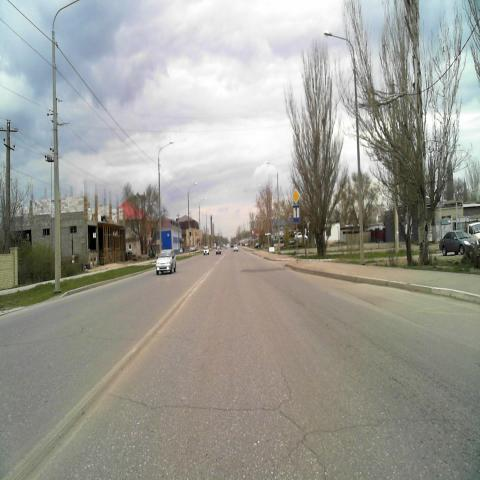7_4: (292, 205, 300, 223)
